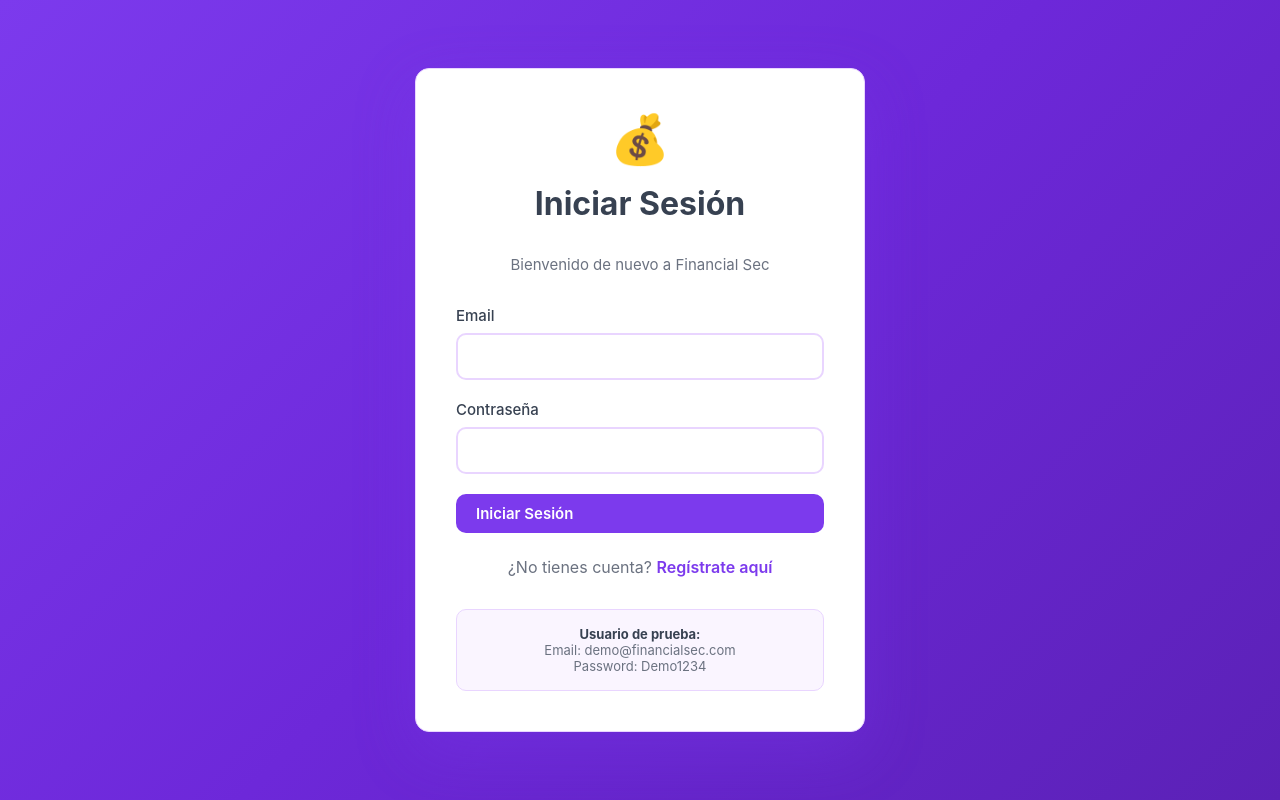
Test: Login Component - Unit Tests › debe limpiar mensaje de error al enviar nuevamente
The image size is (1280, 800).
# Primer intento fallido
In the field labelled "Email": [640, 356] box [456,333,824,380], type "test@example.com"
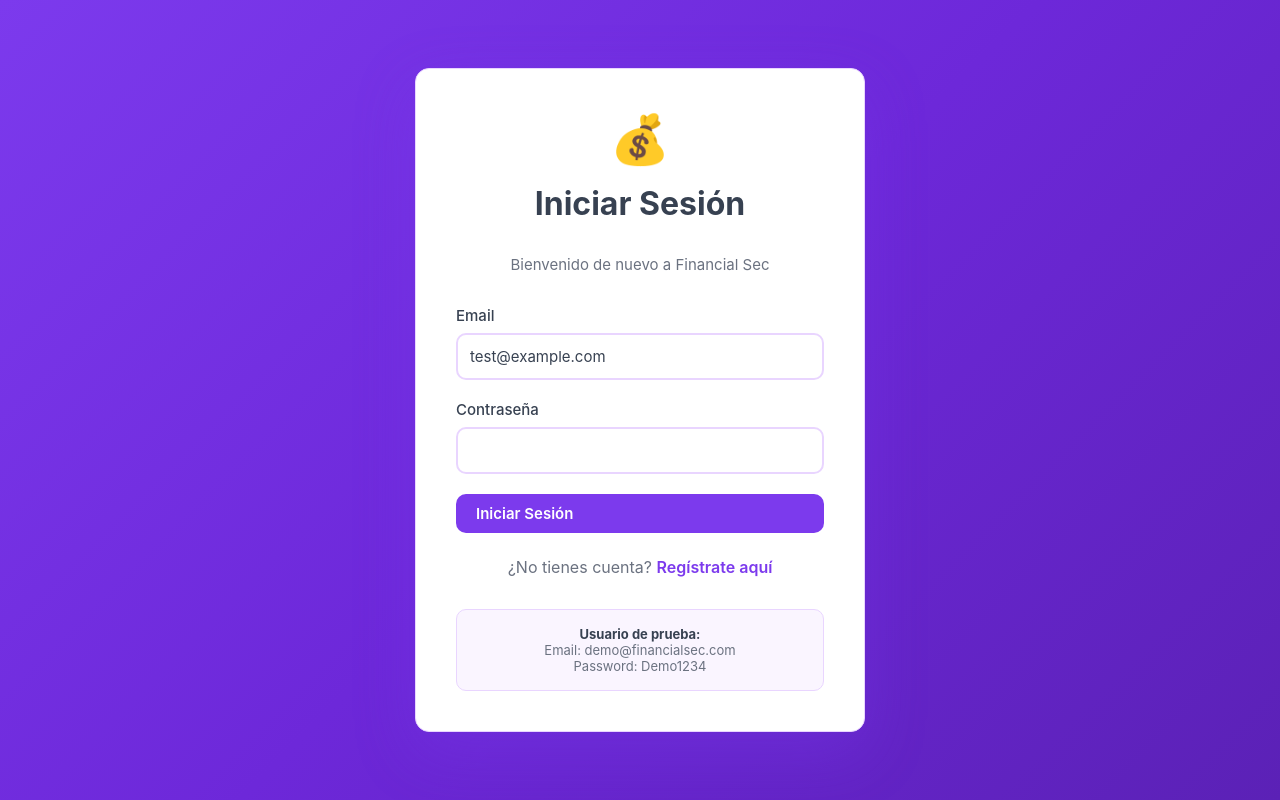
In the password field labelled "Contraseña": [640, 450] box [456,427,824,474], type "wrong"
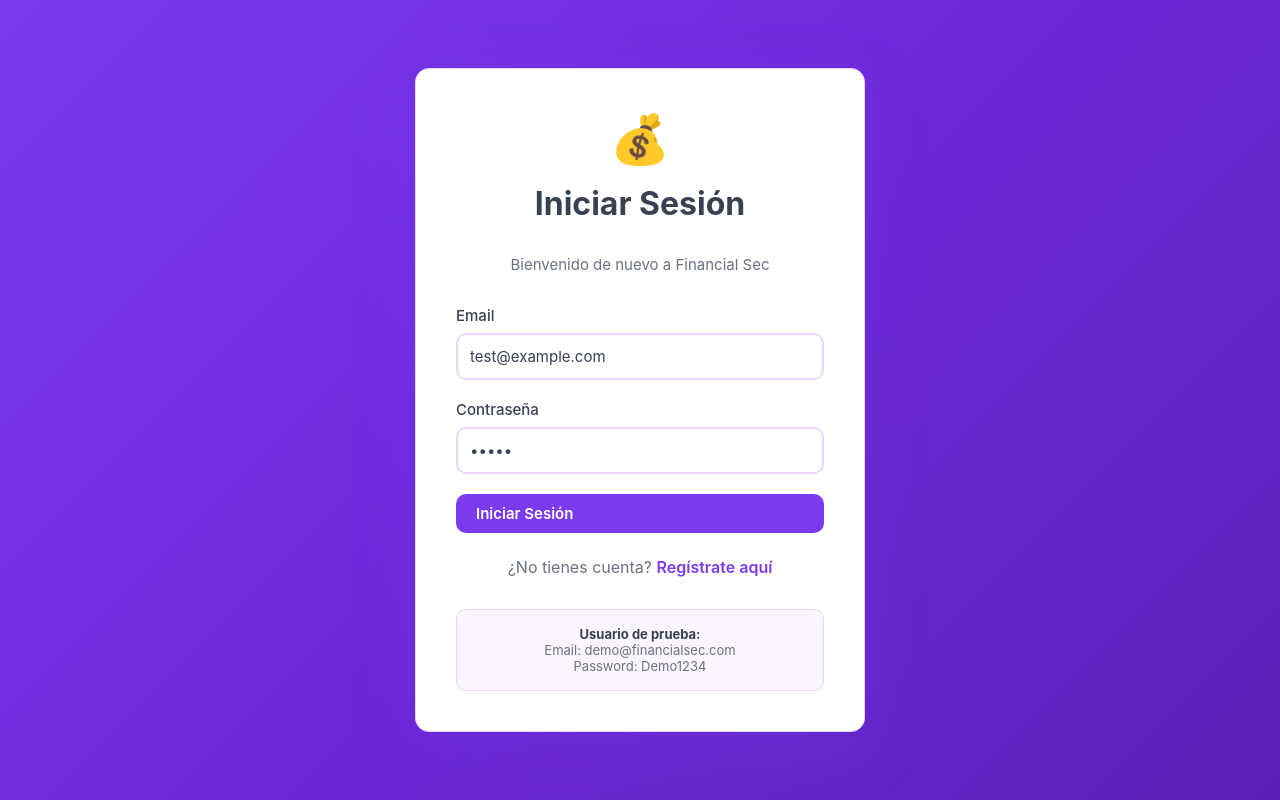
Click the button "Iniciar Sesión": [525, 514] box [456,494,824,533]
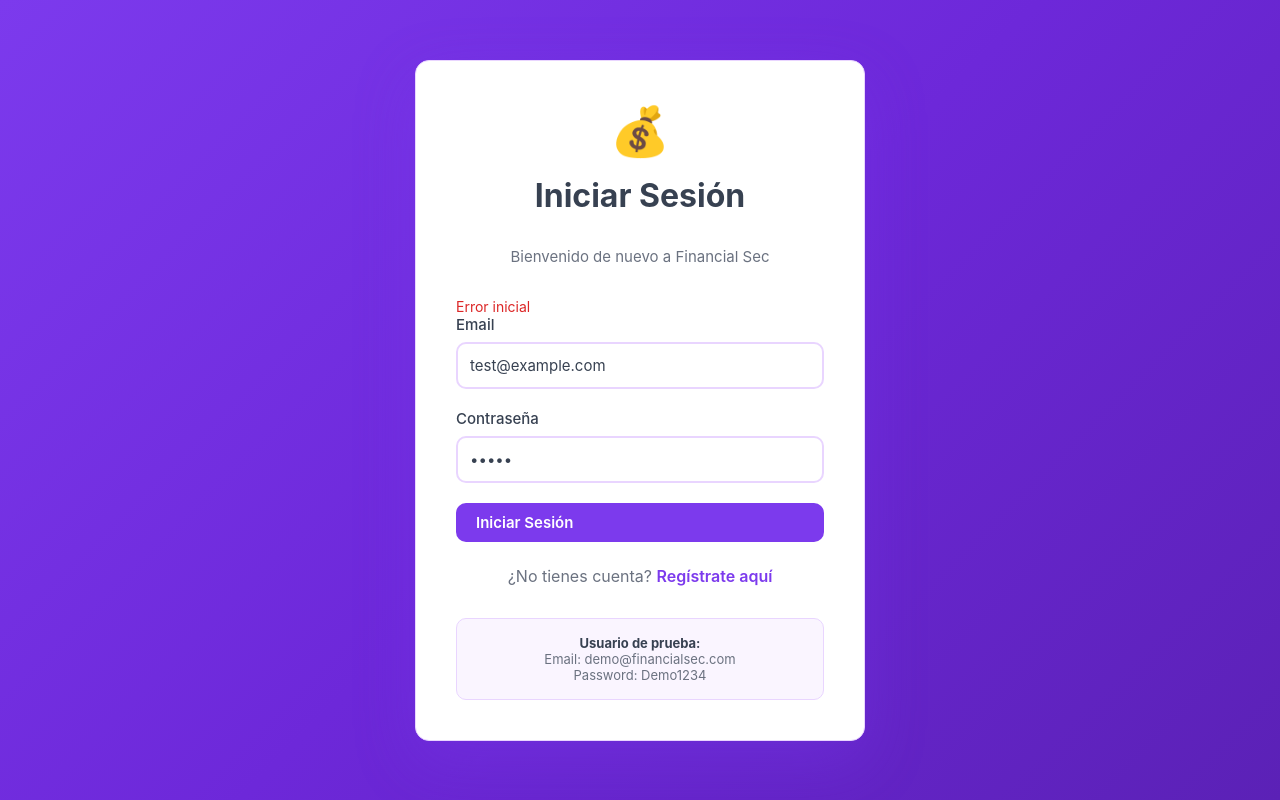
Now the text "Error inicial" is shown, box [456,298,530,314]
In the password field labelled "Contraseña": [640, 459] box [456,436,824,482], type "correct"
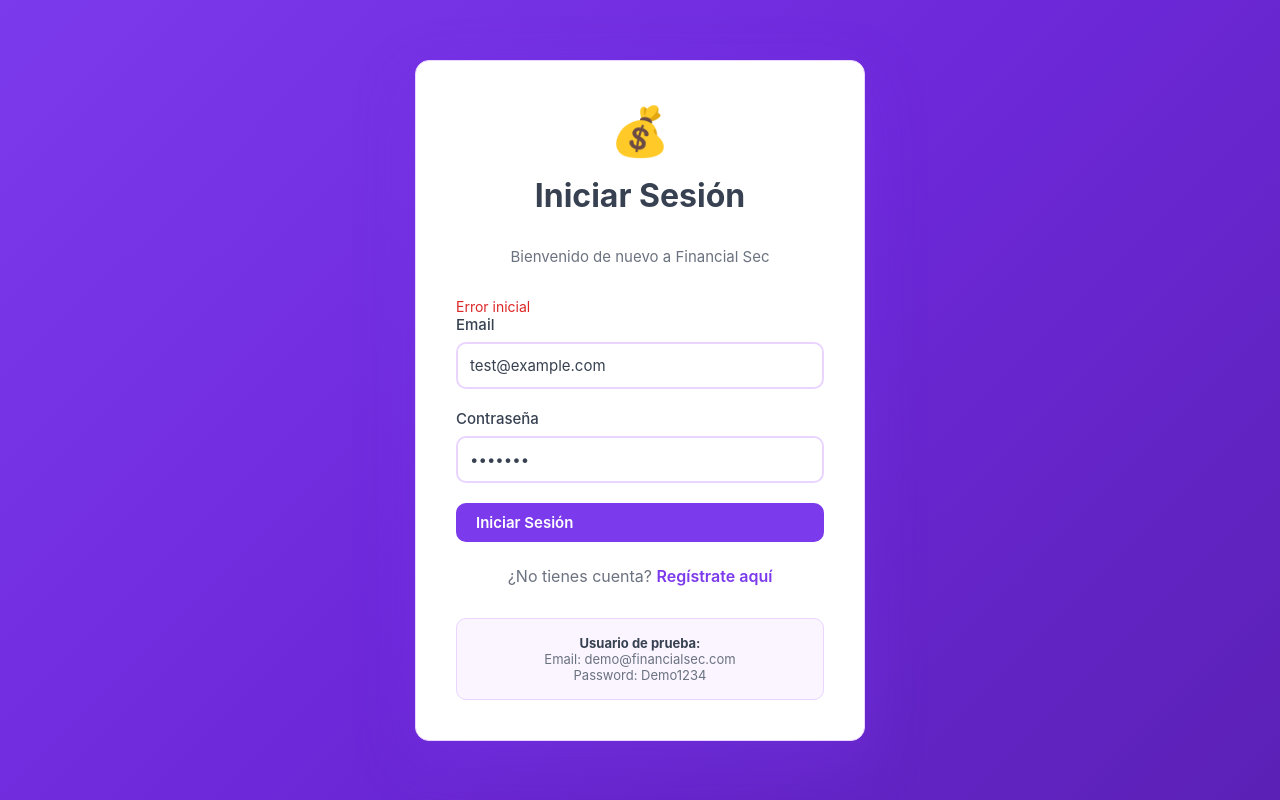
Click the button "Iniciar Sesión": [525, 522] box [456,502,824,542]
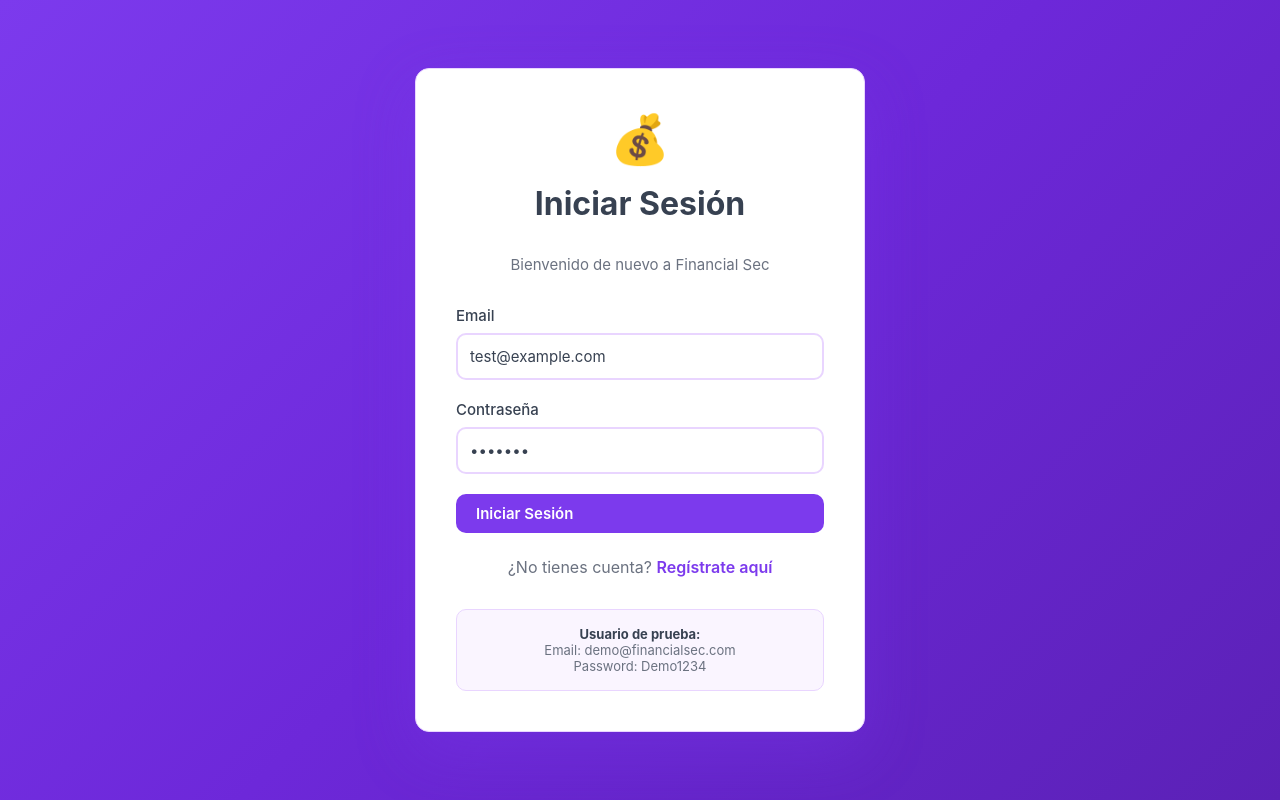
Now the text "Error inicial" is gone
